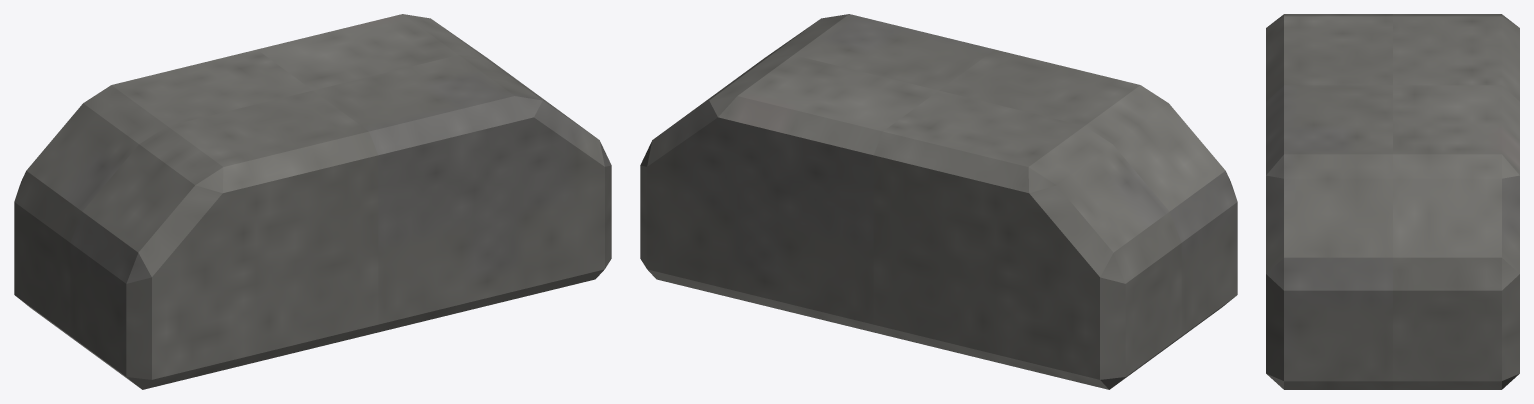
Rendered from pr_grave4.glb.
3 views of the same model, side by side, from view 1: azimuth 30°, elevation 25°; view 2: azimuth 150°, elevation 25°; view 3: azimuth 270°, elevation 25° (orthographic). The views are drawn at different scales.
Parts seen in each view (by area): view 1: pr_grave4; view 2: pr_grave4; view 3: pr_grave4.
Part boxes in pixels (x1,y1,x2,y2): pr_grave4: [14, 14, 611, 389]; pr_grave4: [640, 14, 1237, 389]; pr_grave4: [1266, 14, 1519, 389].
Bounding box in the file's own units: 0.6 × 0.24 × 0.28.
Materials: 1 (1 with a texture image).
